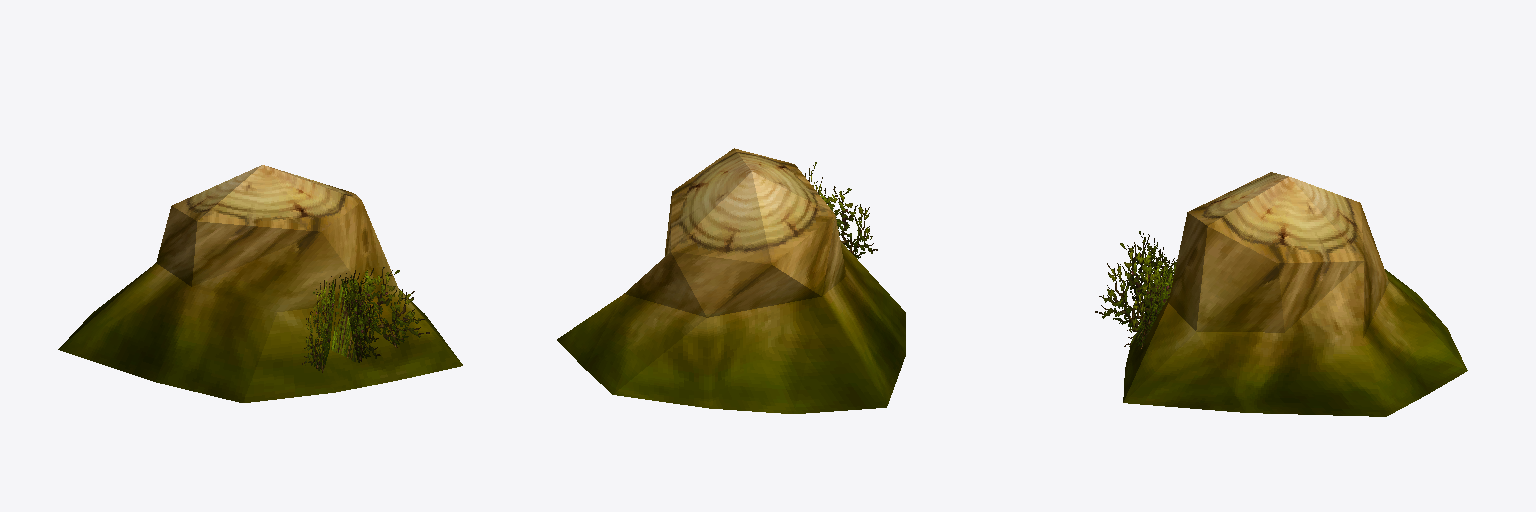
3 views of the same model, side by side, from view 1: azimuth 30°, elevation 25°; view 2: azimuth 150°, elevation 25°; view 3: azimuth 270°, elevation 25° (orthographic).
Parts seen in each view (by area): view 1: elwynntreestump02.m2; view 2: elwynntreestump02.m2; view 3: elwynntreestump02.m2.
Part boxes in pixels (x1,y1,x2,y2): elwynntreestump02.m2: (58,165,462,402); elwynntreestump02.m2: (557,148,905,413); elwynntreestump02.m2: (1095,172,1467,416).
Bounding box in the file's own units: 4.7 × 2.41 × 4.82.
2 materials, 2 textured.